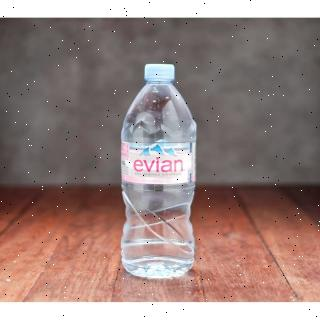Plastic-bottle: (112, 63, 206, 282)
